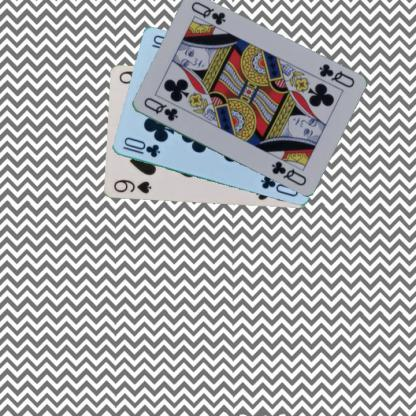10c: (120, 135, 161, 159)
9s: (111, 177, 152, 195)
Qc: (315, 61, 356, 89), (141, 94, 179, 123)
